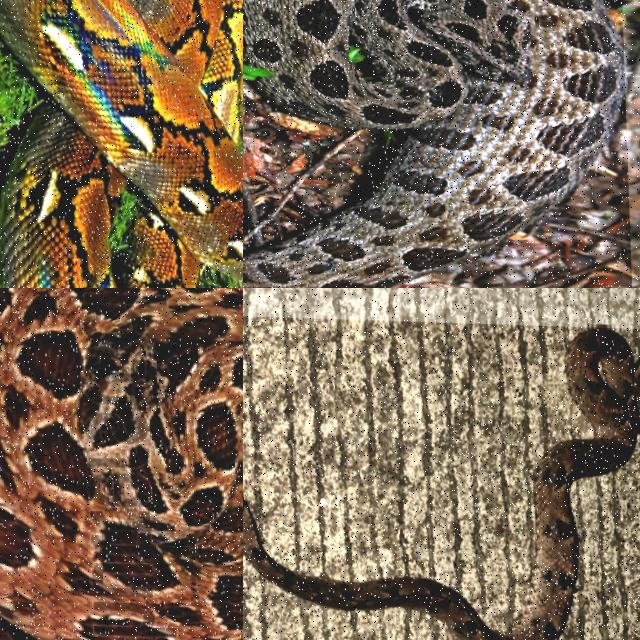Calloselasma rhodostoma: (243, 324, 639, 639)
Daboia siamensis: (243, 0, 624, 287), (0, 288, 242, 639)
Malayopython reticulatus: (0, 0, 242, 287)
snake: (243, 324, 639, 639), (243, 0, 624, 287), (0, 288, 242, 639), (0, 0, 242, 287)
